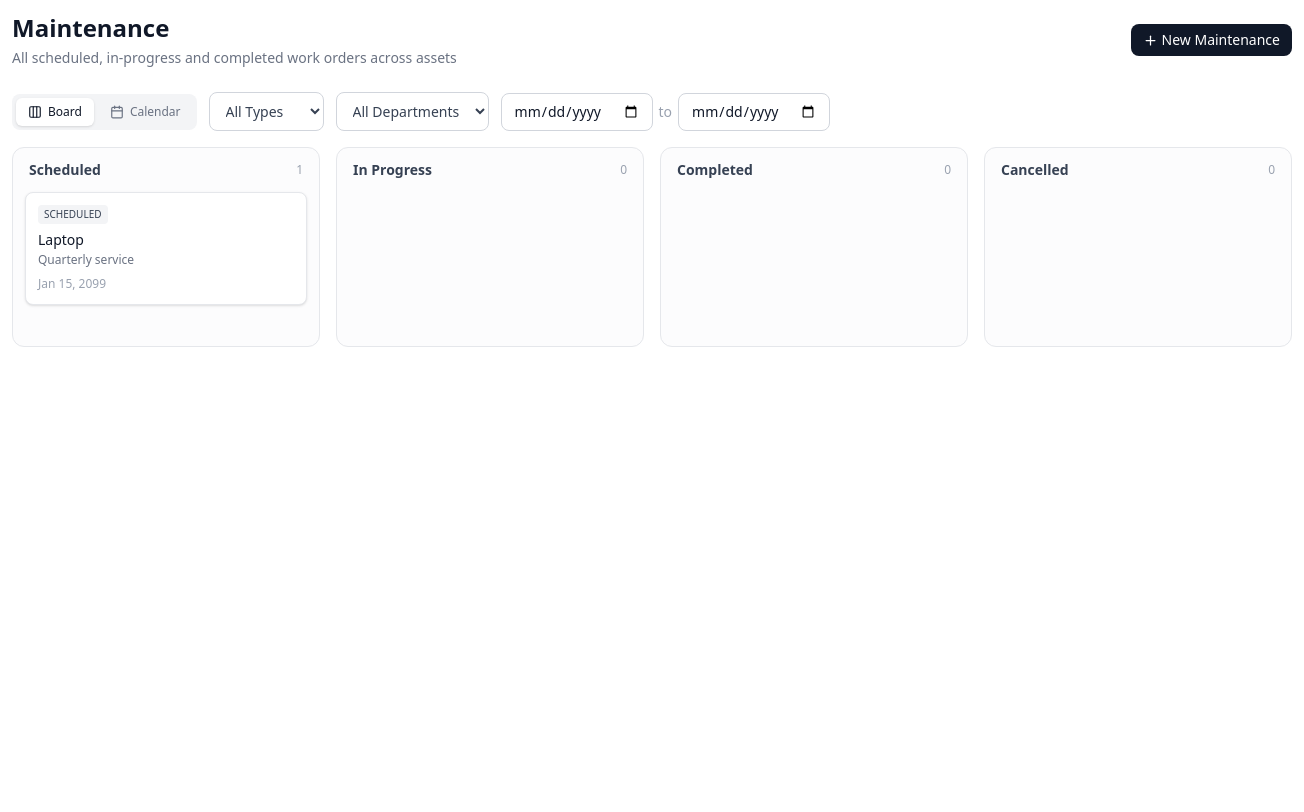
Test: MaintenancePage › renders maintenance records and switches to the calendar
This screenshot has width=1304, height=812.
Expected: the heading "Maintenance" is shown, [12,11,169,44]
Expected: the text "Quarterly service" is shown, [38,251,134,268]
What coordinates should you click on to do the following:
click the button "Calendar"
I would click on:
 (145, 112)
Its box is [98,98,193,126].
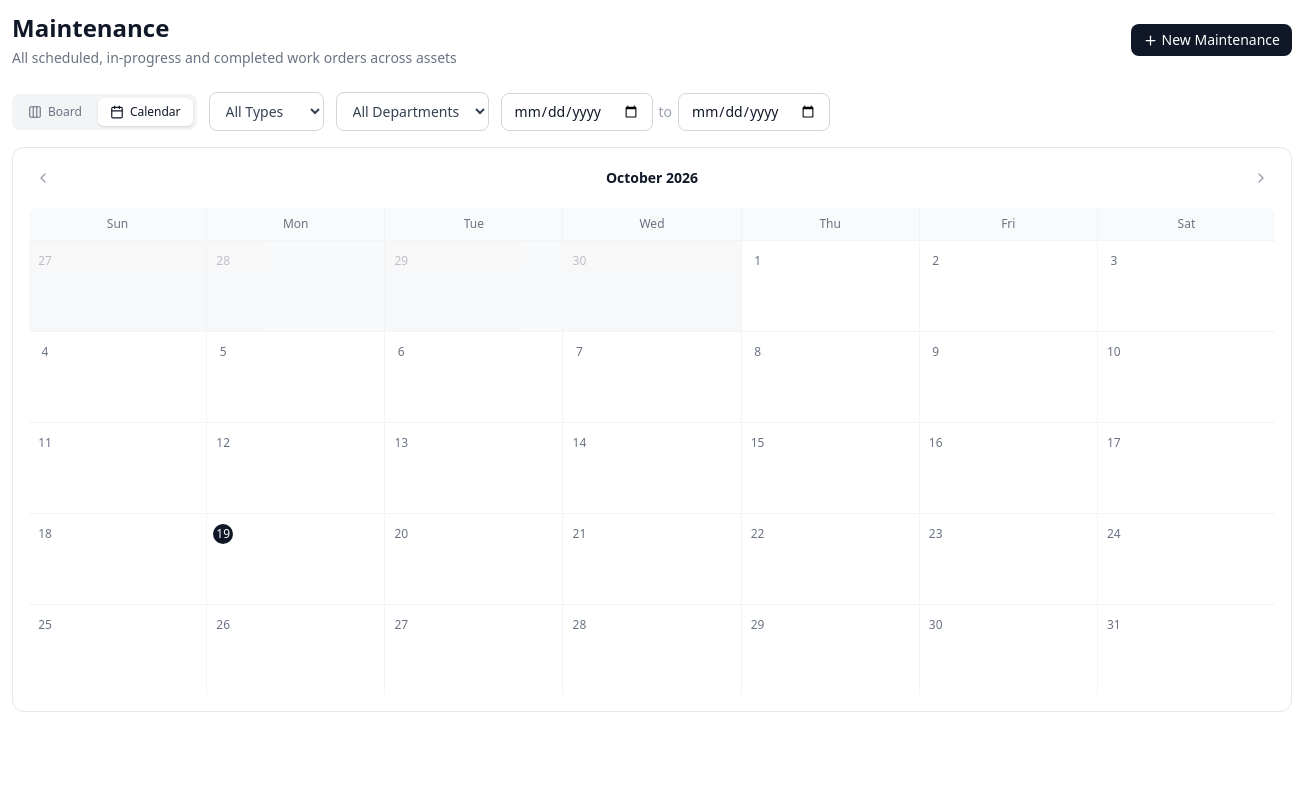
Result: the text "Sun" is shown at [29,208,206,240]
